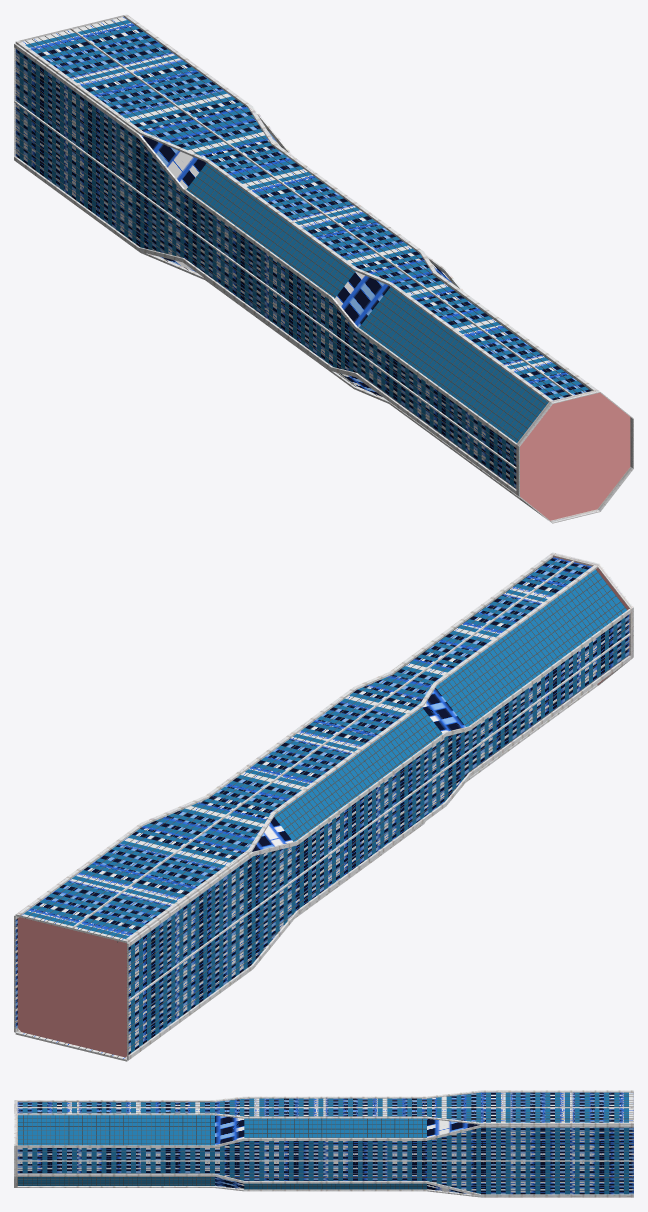
The model's file is Sky092.obj.
3 views of the same model, one above another, from view 1: azimuth 30°, elevation 25°; view 2: azimuth 150°, elevation 25°; view 3: azimuth 270°, elevation 25° (orthographic). The views are drawn at different scales.
Visible parts, largest first — view 1: glass_01, wall_1_01, frame_01, slab_01, wall_07, wall_02, wall_05, wall_03, wall_06, wall_01; view 2: glass_01, wall_1_01, frame_01, slab_1_01, wall_07, wall_02, wall_05, wall_03, wall_01; view 3: glass_01, wall_1_01, frame_01, wall_07, wall_02, wall_05, wall_04, wall_01, wall_06.
Part boxes in pixels (<box>): glass_01: <box>19,20,588,486</box>; wall_1_01: <box>15,17,590,488</box>; frame_01: <box>15,18,591,488</box>; slab_01: <box>520,392,630,520</box>; wall_07: <box>14,14,633,523</box>; wall_02: <box>14,28,573,469</box>; wall_05: <box>15,15,593,402</box>; wall_03: <box>14,43,516,490</box>; wall_06: <box>516,389,633,522</box>; wall_01: <box>21,165,545,518</box>; glass_01: <box>24,560,626,1052</box>; wall_1_01: <box>15,557,629,1058</box>; frame_01: <box>15,557,629,1057</box>; slab_1_01: <box>17,917,126,1057</box>; wall_07: <box>15,554,630,1059</box>; wall_02: <box>71,560,630,1045</box>; wall_05: <box>15,555,597,943</box>; wall_03: <box>127,609,630,1059</box>; wall_01: <box>15,684,597,1061</box>; glass_01: <box>18,1092,628,1194</box>; wall_1_01: <box>17,1092,633,1194</box>; frame_01: <box>17,1094,633,1193</box>; wall_07: <box>17,1090,633,1196</box>; wall_02: <box>17,1107,633,1161</box>; wall_05: <box>17,1091,633,1124</box>; wall_04: <box>18,1125,633,1194</box>; wall_01: <box>17,1187,633,1197</box>; wall_06: <box>14,1100,17,1187</box>.
Bounding box in the file's own units: 990 × 990 × 7545.
Materials: 6 (2 with a texture image).
